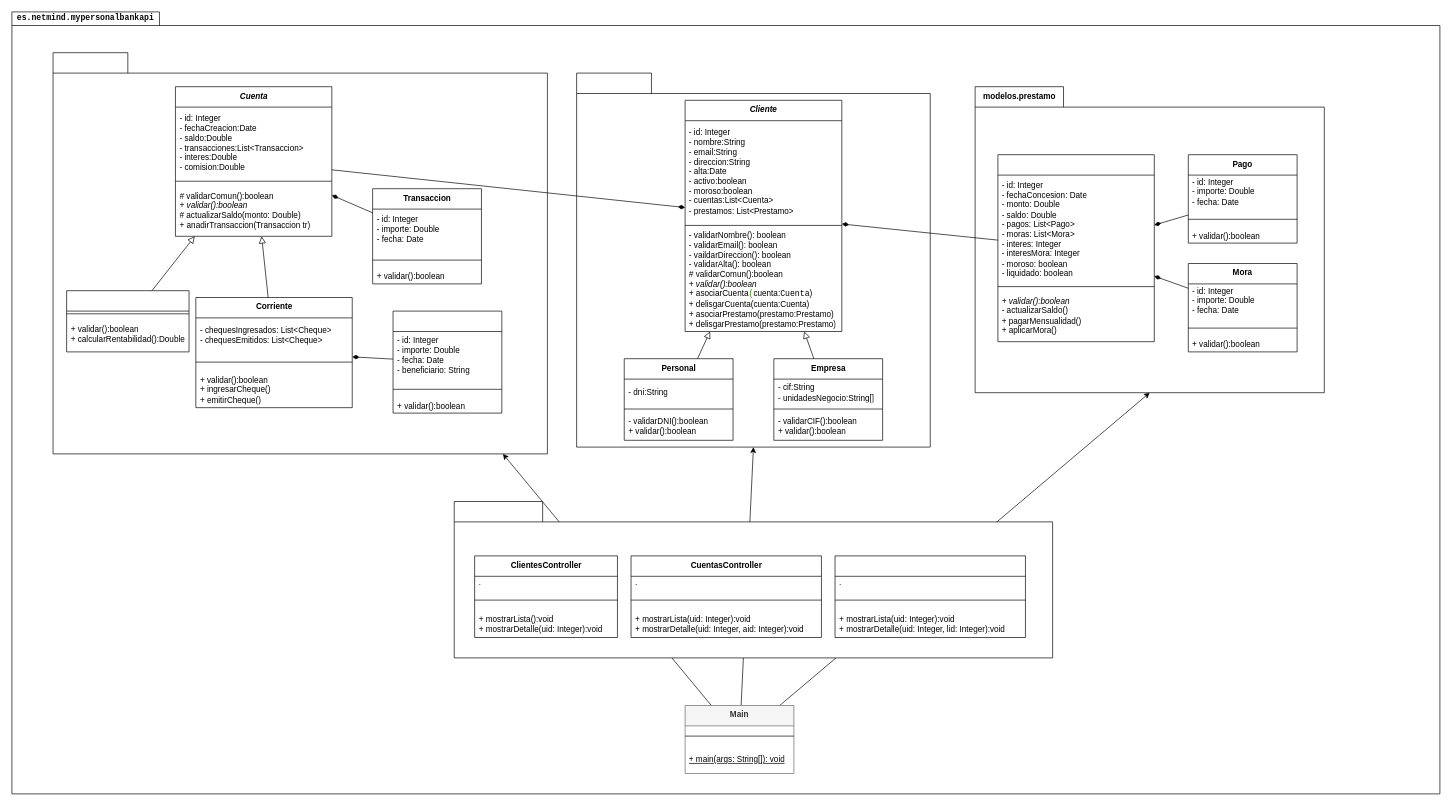
Some shapes in this 1452 by 806 pixel diagram are drawn without their labels. The box of each missing label's shape, as (x1, y1, x2, y2) in pixels:
Ahorro: (66, 290, 189, 352)
Cheque: (392, 310, 502, 413)
controladores: (454, 501, 1053, 658)
modelos.cliente: (576, 72, 930, 447)
modelos.cuenta: (52, 52, 547, 454)
Prestamo: (997, 154, 1154, 342)
PrestamosController: (834, 555, 1025, 638)
